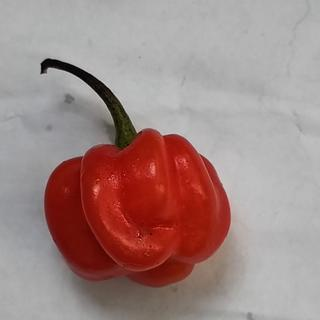Grade-B: (38, 124, 233, 288)
